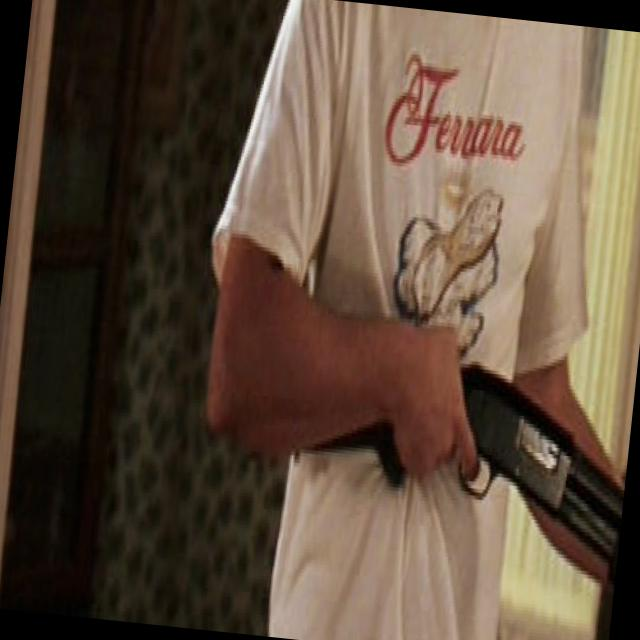Guns: (302, 224, 635, 638)
